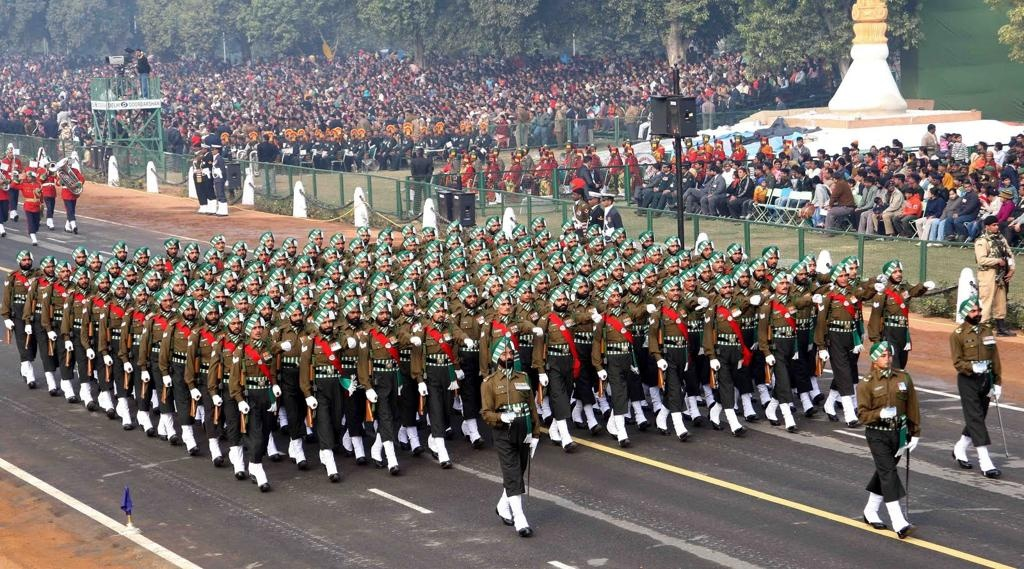human_face: (496, 344, 514, 367), (226, 314, 242, 334), (374, 305, 390, 325), (876, 348, 892, 368), (246, 320, 262, 339), (344, 305, 360, 323), (318, 312, 332, 332), (180, 304, 196, 320), (552, 292, 568, 308), (288, 306, 302, 324), (535, 274, 549, 292), (666, 283, 680, 301), (967, 305, 981, 323), (159, 292, 173, 309), (234, 297, 248, 314), (606, 289, 620, 306), (204, 308, 218, 324), (322, 294, 336, 310), (752, 264, 766, 280), (432, 304, 444, 322), (498, 297, 510, 314), (488, 280, 502, 294), (518, 287, 532, 301), (260, 302, 272, 318), (213, 290, 225, 306), (297, 292, 309, 308), (268, 287, 280, 303), (247, 279, 259, 295), (225, 274, 237, 290), (402, 299, 414, 315), (465, 290, 477, 306), (576, 280, 588, 296), (628, 277, 640, 293), (644, 270, 656, 286), (737, 270, 749, 286), (776, 276, 788, 292), (836, 270, 848, 286), (846, 262, 858, 278), (890, 266, 902, 282), (192, 284, 204, 299), (135, 289, 147, 304), (595, 274, 607, 289), (719, 282, 731, 297), (766, 251, 778, 266), (114, 283, 126, 297), (88, 256, 100, 270), (136, 252, 148, 266), (124, 269, 136, 283), (228, 260, 240, 274), (298, 261, 310, 275), (506, 272, 518, 286), (610, 265, 622, 279), (562, 268, 574, 282), (552, 256, 564, 270), (632, 258, 644, 272), (622, 244, 634, 258), (795, 268, 807, 282), (174, 278, 184, 294), (74, 251, 86, 264), (432, 289, 444, 302), (478, 255, 490, 268), (666, 240, 678, 253), (186, 248, 198, 260), (147, 276, 159, 288), (274, 255, 286, 267), (296, 278, 308, 290), (318, 284, 330, 296), (406, 269, 418, 281), (427, 257, 439, 269), (429, 273, 441, 285), (454, 278, 466, 290), (479, 271, 491, 283), (498, 248, 510, 260), (488, 220, 500, 232), (529, 264, 541, 276), (523, 255, 535, 267), (518, 240, 530, 252), (605, 255, 617, 267), (712, 258, 724, 270), (202, 268, 212, 282), (98, 276, 108, 290), (78, 273, 88, 287), (58, 266, 68, 280), (44, 261, 54, 275), (108, 262, 118, 276), (116, 246, 126, 260), (20, 254, 30, 268), (154, 259, 164, 273), (312, 233, 322, 247), (306, 248, 316, 262), (252, 266, 262, 280), (275, 272, 285, 286), (376, 276, 386, 290), (334, 238, 344, 252), (580, 260, 590, 274), (684, 276, 694, 290), (701, 266, 711, 280), (731, 248, 741, 262), (702, 244, 712, 258), (805, 260, 815, 274), (448, 225, 460, 236), (285, 242, 295, 255), (178, 266, 188, 278), (208, 254, 218, 266), (167, 243, 177, 255), (236, 246, 246, 258), (264, 236, 274, 248), (345, 290, 355, 302), (352, 273, 362, 285), (327, 252, 337, 264), (358, 257, 368, 269), (379, 261, 389, 273), (358, 231, 368, 243), (400, 255, 410, 267), (382, 234, 392, 246), (454, 262, 464, 274), (504, 262, 514, 274), (497, 235, 507, 247), (548, 244, 558, 256), (593, 242, 603, 254), (567, 237, 577, 249), (668, 262, 678, 274), (651, 250, 661, 262), (643, 237, 653, 249), (330, 267, 338, 281), (214, 239, 224, 250), (352, 244, 362, 254), (378, 248, 388, 258), (406, 242, 416, 252), (424, 232, 434, 242), (452, 254, 462, 264), (472, 246, 482, 256), (475, 231, 485, 241), (514, 230, 524, 240), (534, 222, 544, 232), (680, 256, 690, 266), (988, 222, 998, 232), (258, 250, 266, 262), (404, 284, 412, 296), (540, 234, 548, 246), (430, 247, 438, 258), (450, 239, 458, 250), (616, 232, 624, 243), (404, 229, 412, 239), (590, 232, 600, 240), (565, 226, 573, 234), (886, 182, 894, 190), (953, 178, 961, 186), (736, 169, 744, 177), (572, 190, 578, 200), (968, 174, 974, 184), (1002, 177, 1010, 184), (588, 197, 594, 205), (949, 191, 955, 199), (864, 178, 870, 186), (906, 168, 912, 176), (894, 158, 900, 166), (918, 169, 924, 177), (976, 142, 982, 150), (980, 184, 986, 192), (828, 160, 834, 168), (852, 154, 858, 162), (1018, 186, 1024, 194), (883, 166, 889, 173), (986, 192, 992, 199), (66, 162, 72, 169), (602, 198, 608, 204), (210, 147, 216, 153), (192, 145, 198, 151), (876, 198, 882, 204), (932, 179, 938, 185), (961, 168, 967, 174), (950, 164, 956, 170), (926, 163, 932, 169), (760, 180, 766, 186), (780, 171, 786, 177), (754, 168, 760, 174), (804, 161, 810, 167), (724, 164, 730, 170), (704, 169, 710, 175), (694, 162, 700, 168), (832, 160, 838, 166), (831, 176, 837, 182), (978, 154, 984, 160), (972, 185, 978, 191), (888, 176, 894, 182), (8, 150, 14, 156), (26, 175, 32, 181), (964, 184, 968, 192), (928, 189, 932, 197), (904, 190, 908, 198), (876, 180, 880, 188), (894, 177, 898, 185), (856, 172, 860, 180), (810, 160, 814, 168), (864, 154, 868, 162), (824, 169, 828, 177), (1000, 193, 1004, 201), (994, 142, 998, 150), (816, 151, 822, 156), (900, 151, 906, 156), (878, 150, 884, 155), (928, 173, 932, 180), (201, 147, 205, 153), (938, 165, 942, 171), (796, 171, 800, 177), (791, 168, 795, 174), (774, 162, 778, 168), (762, 163, 766, 169), (732, 162, 736, 168), (710, 168, 714, 174), (663, 165, 667, 171), (680, 166, 684, 172), (930, 127, 934, 133), (956, 136, 962, 140), (986, 154, 990, 160), (918, 149, 922, 155), (782, 158, 786, 164), (714, 160, 720, 164), (652, 166, 656, 172), (916, 160, 920, 166), (798, 154, 802, 160), (732, 175, 736, 181), (136, 50, 140, 56), (889, 150, 893, 155), (868, 169, 872, 174), (754, 156, 756, 164), (946, 136, 950, 140), (870, 148, 874, 152), (940, 137, 944, 141), (1016, 136, 1020, 140), (910, 177, 912, 183), (952, 134, 954, 140), (824, 161, 826, 166)
